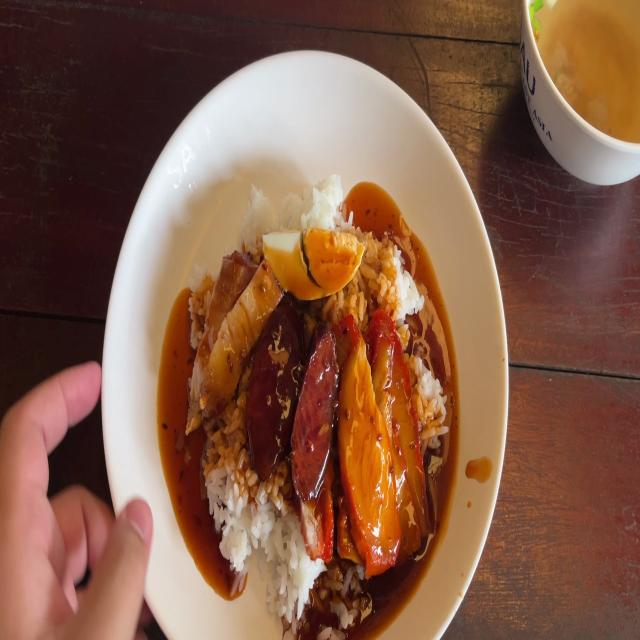01boiled_egg: (264, 227, 369, 302)
01chainese_sausage: (247, 304, 333, 484), (246, 309, 306, 465), (290, 339, 342, 487)
01crispy_pork: (186, 252, 272, 434), (185, 280, 280, 418), (188, 249, 249, 385)
01red_pork: (344, 313, 426, 554), (374, 318, 427, 542), (346, 324, 390, 564)
01red_pork_and_crispy_pork: (192, 176, 448, 630)
01rice: (211, 424, 261, 558), (255, 498, 309, 598), (251, 174, 342, 215), (367, 233, 410, 307)
